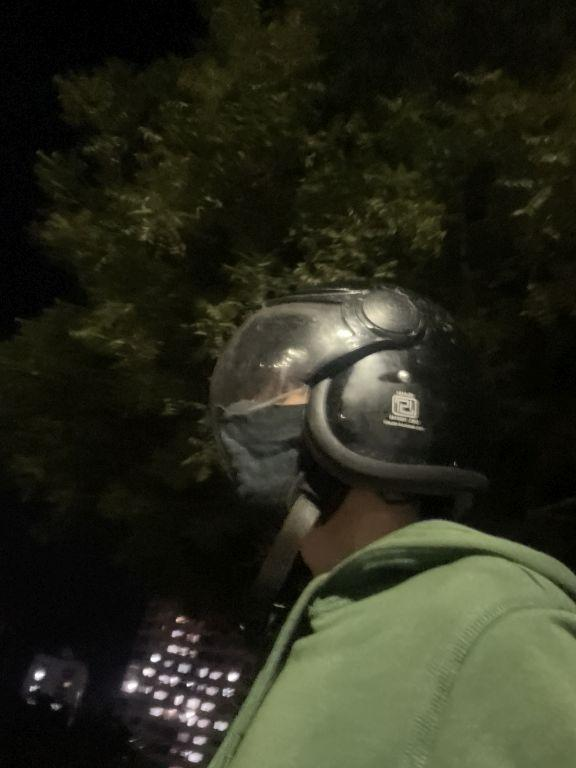helmet: (192, 264, 502, 530)
